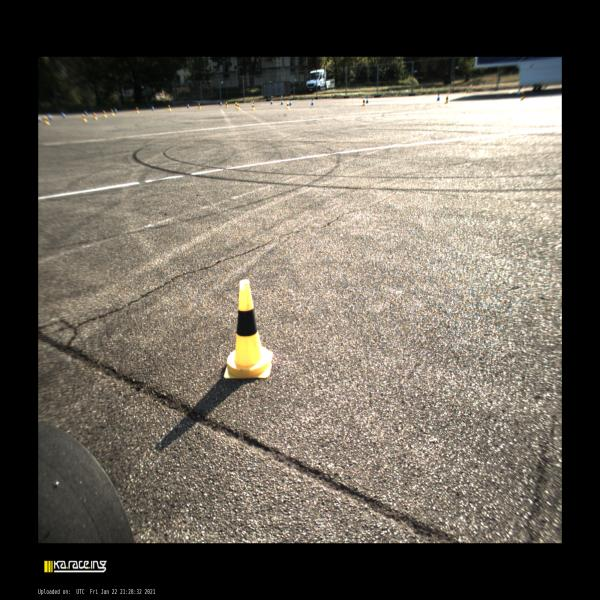blue_cone: (436, 93, 440, 100), (366, 96, 369, 103), (311, 99, 314, 105), (289, 100, 292, 106), (270, 99, 273, 104), (281, 100, 283, 105), (220, 102, 222, 107), (152, 106, 154, 111), (187, 104, 189, 108)
yellow_cone: (224, 280, 273, 379), (444, 94, 449, 104), (286, 101, 290, 109), (83, 115, 87, 122), (362, 98, 365, 106), (111, 110, 115, 116), (252, 103, 255, 110), (198, 103, 201, 110), (168, 105, 171, 111), (136, 108, 139, 113), (237, 103, 239, 109), (235, 102, 237, 108), (226, 101, 228, 107), (95, 114, 97, 120), (104, 112, 106, 118)
